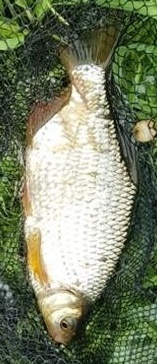Blicca bjoerkna: (20, 20, 137, 344)
